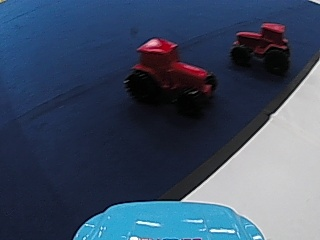tractor: (124, 34, 218, 108), (229, 21, 292, 73)
